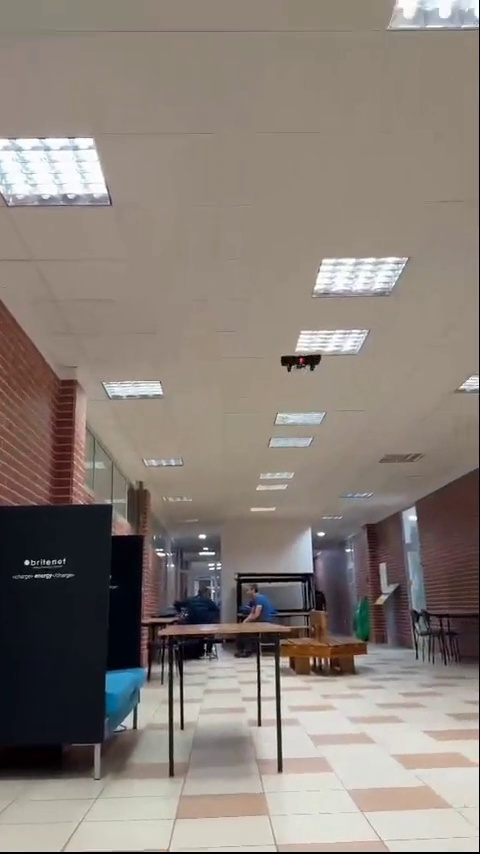drone: (280, 355, 318, 375)
no vest: (239, 578, 283, 622), (176, 584, 222, 626)
